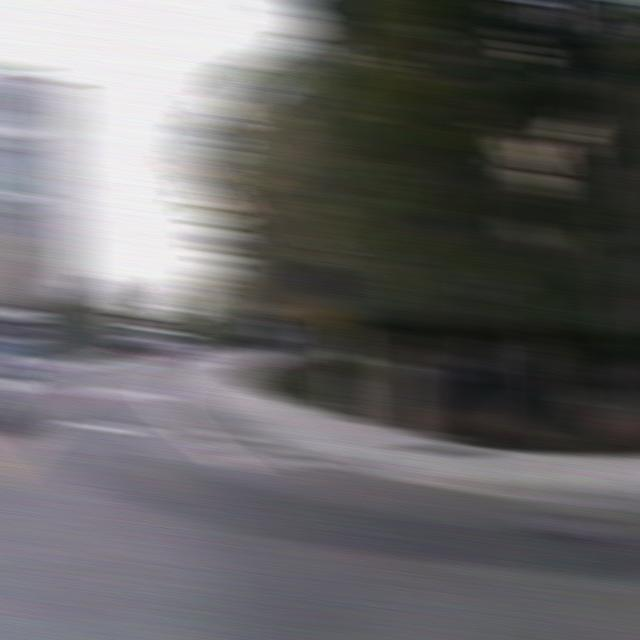pedestrianCrossing: (292, 288, 344, 332)
